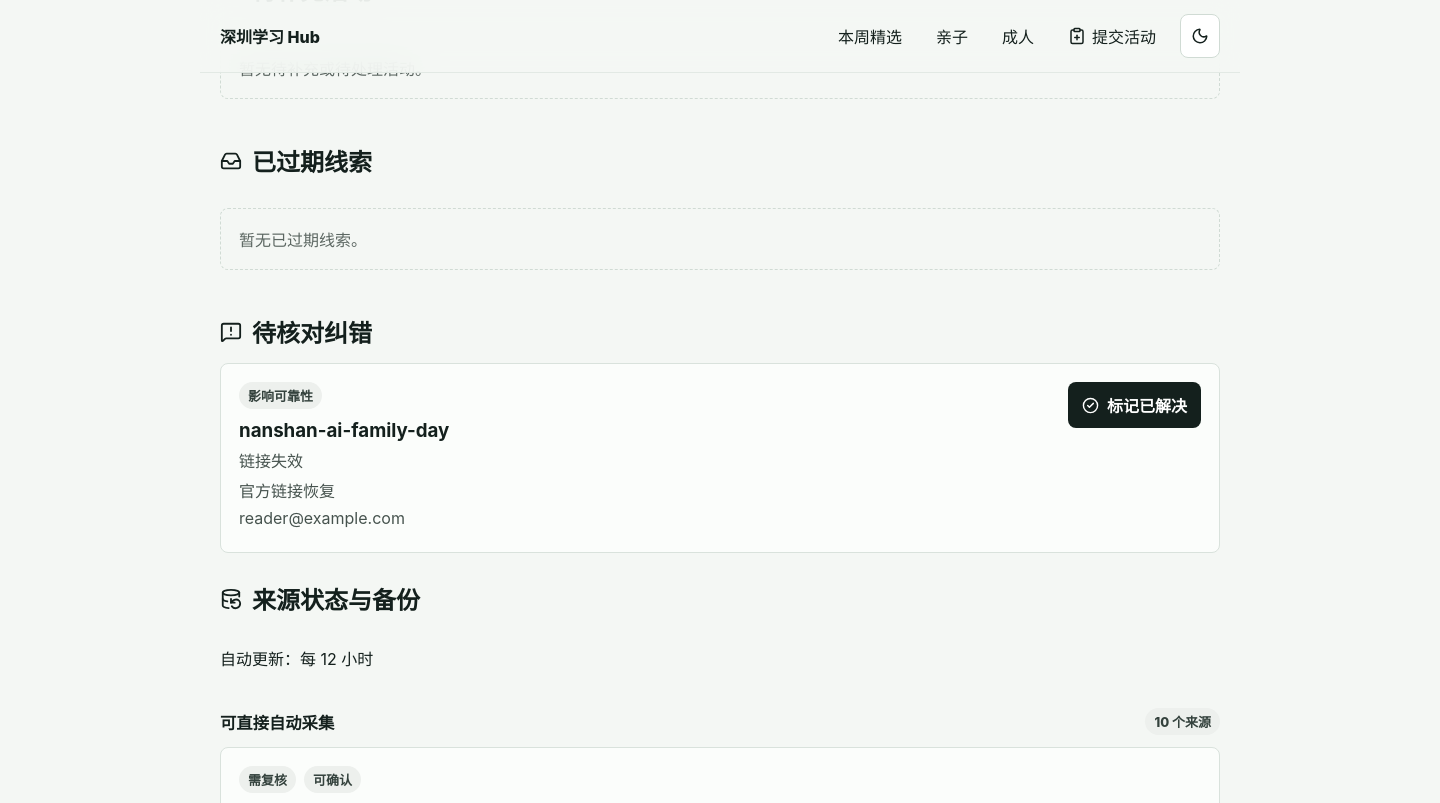
Test case: EvaluationAdmin › can mark a correction as resolved and shows recovery state
(page scrolled)
Click the button "标记已解决" at coordinates (1134, 405), box x1=1068 y1=382 x2=1201 y2=428
(page scrolled)
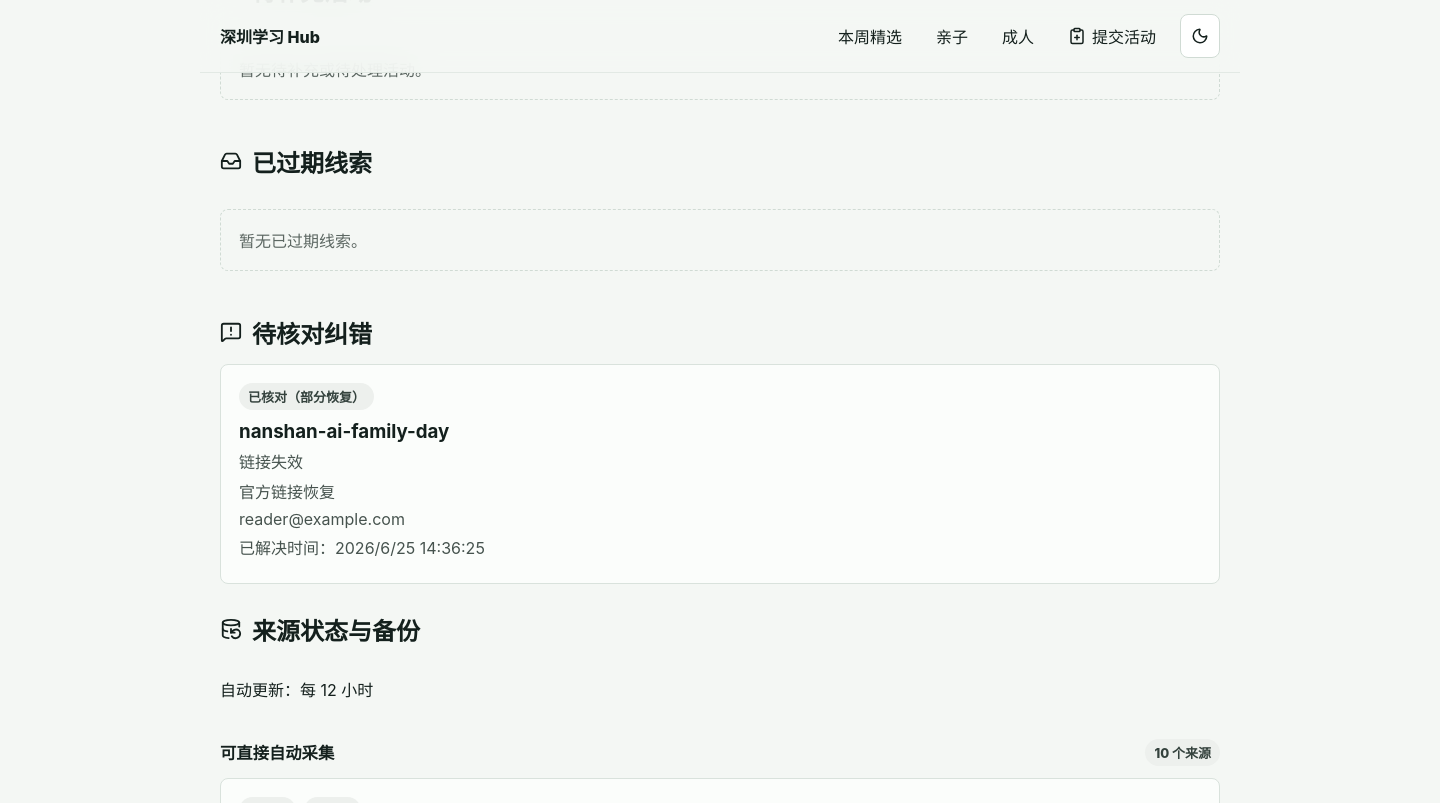
Expected: the text "已核对（部分恢复）" is shown, x1=239 y1=383 x2=374 y2=410
